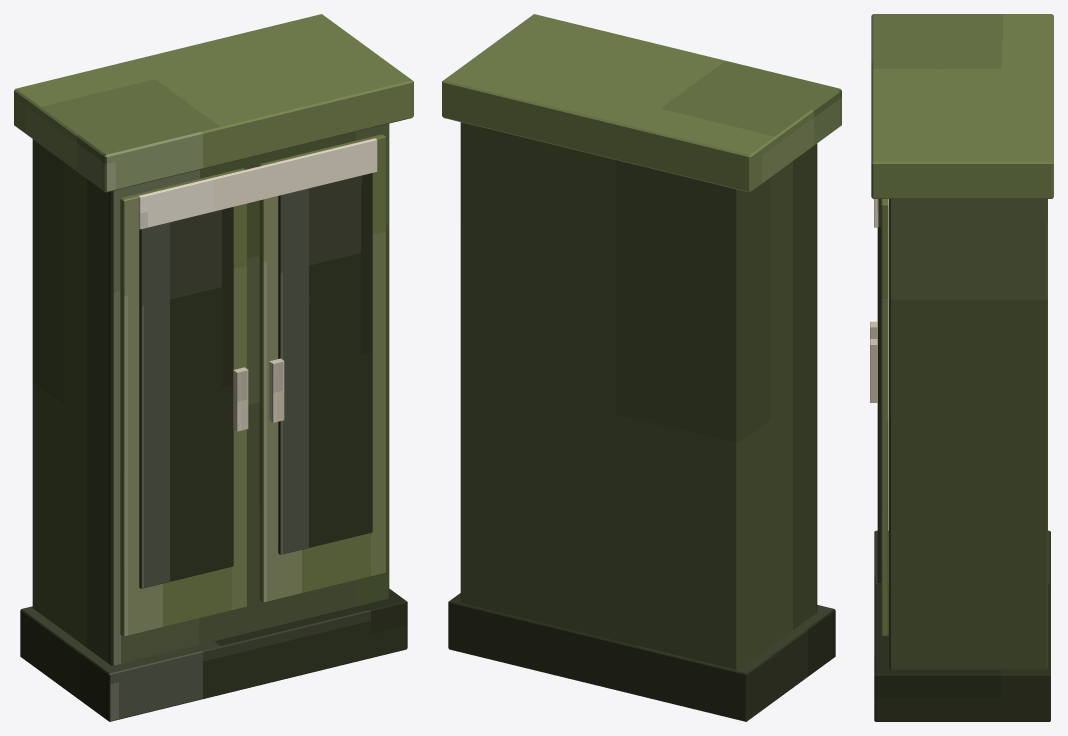
Rendered from bedroom_wardrobe_olive.glb.
The picture shows the model from 3 angles, left to right: view 1: azimuth 30°, elevation 25°; view 2: azimuth 150°, elevation 25°; view 3: azimuth 270°, elevation 25°; orthographic projection.
Parts seen in each view (by area): view 1: WardrobeBody, WardrobeCrown, WardrobeInset_1, WardrobeInset_2, WardrobePlinth, WardrobeDoor_1, WardrobeDoor_2, WardrobeCarvedBand, WardrobeHandle_1, WardrobeHandle_2; view 2: WardrobeBody, WardrobeCrown, WardrobePlinth; view 3: WardrobeBody, WardrobeCrown, WardrobePlinth, WardrobeDoor_2, WardrobeInset_2, WardrobeHandle_2.
Boxes of the visible parts, x1,y1,x2,y2 form: WardrobeBody: (32, 123, 389, 665); WardrobeCrown: (14, 14, 413, 192); WardrobeInset_1: (139, 207, 233, 588); WardrobeInset_2: (278, 173, 372, 554); WardrobePlinth: (20, 588, 407, 721); WardrobeDoor_1: (120, 168, 246, 636); WardrobeDoor_2: (259, 134, 385, 602); WardrobeCarvedBand: (138, 138, 377, 229); WardrobeHandle_1: (233, 367, 248, 431); WardrobeHandle_2: (269, 358, 284, 422); WardrobeBody: (460, 122, 817, 669); WardrobeCrown: (442, 14, 841, 192); WardrobePlinth: (448, 593, 835, 721); WardrobeBody: (889, 199, 1047, 669); WardrobeCrown: (871, 14, 1053, 198); WardrobePlinth: (874, 530, 1050, 721); WardrobeDoor_2: (881, 199, 888, 635); WardrobeInset_2: (877, 199, 881, 583); WardrobeHandle_2: (870, 339, 877, 402).
Bounding box in the file's own units: 1.2 × 2.11 × 0.6245.
1 material, 1 textured.
